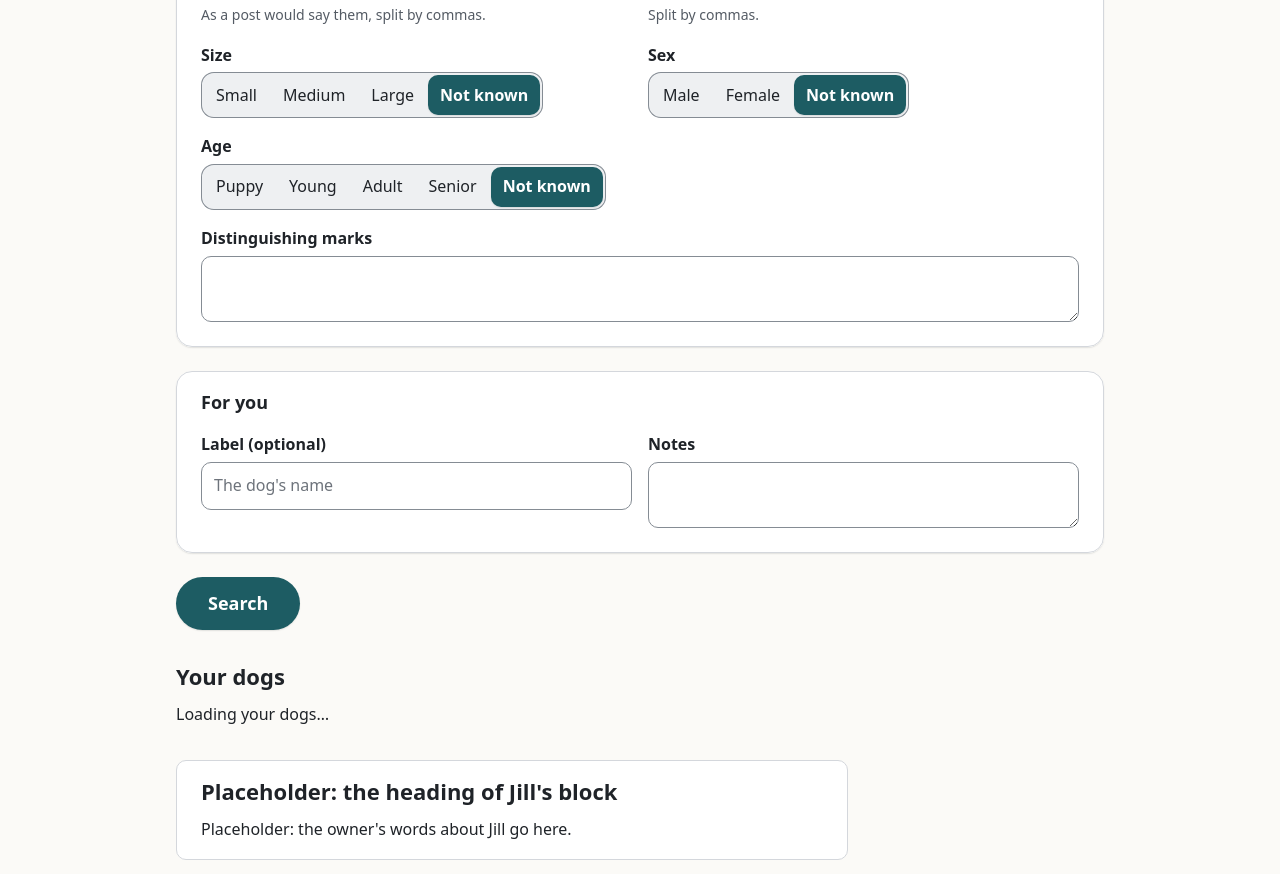
Scenario: the photo drop › saves the picked photo with the dog, as its own bytes on the existing upload route
Earlier steps of the test are not shown.
(page scrolled)
Click the button "Search" at (238, 603), box [176,577,300,630]
(page scrolled)
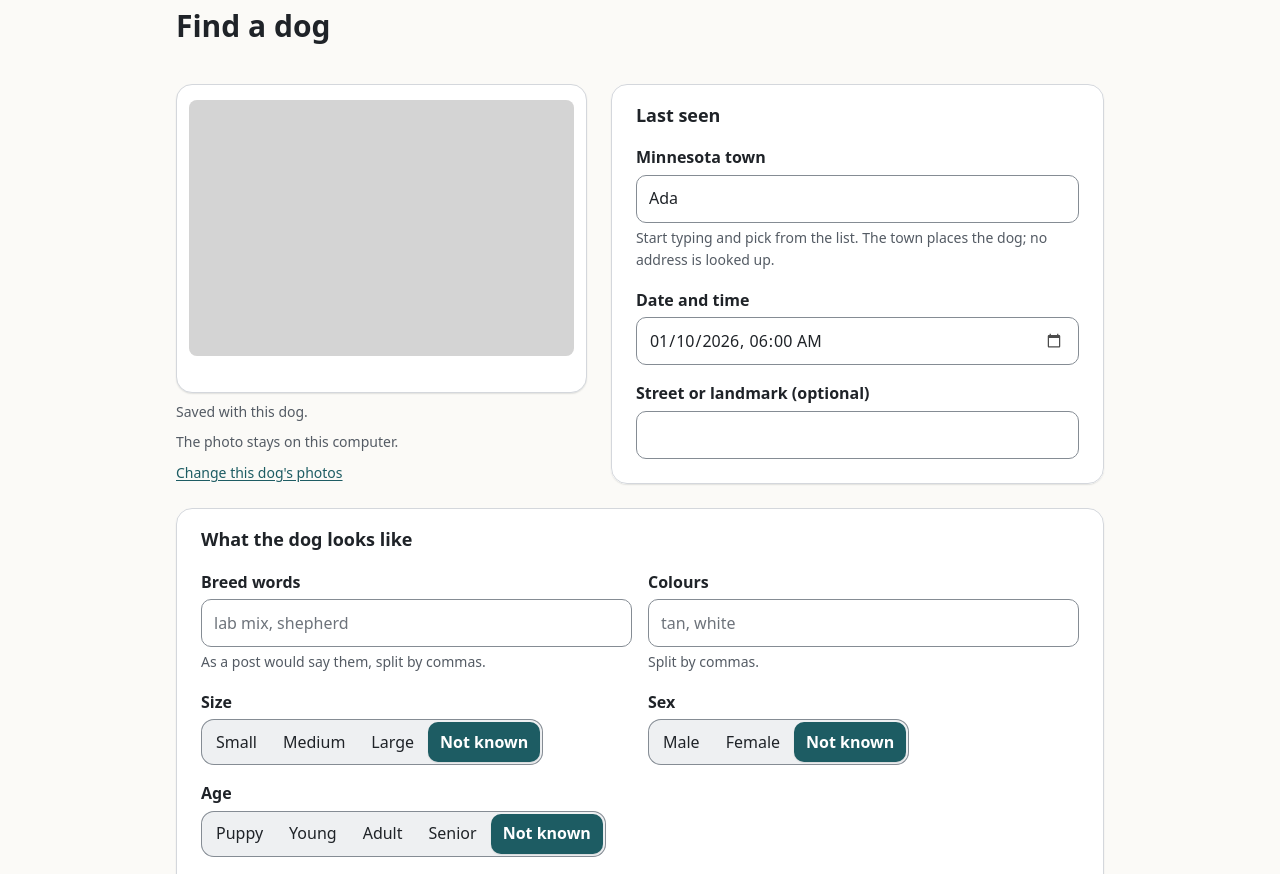
Expected: the text "The photo stays on this computer." is shown, [176,432,398,451]
Now the text "Saved with this dog." is shown, box [176,402,308,421]
